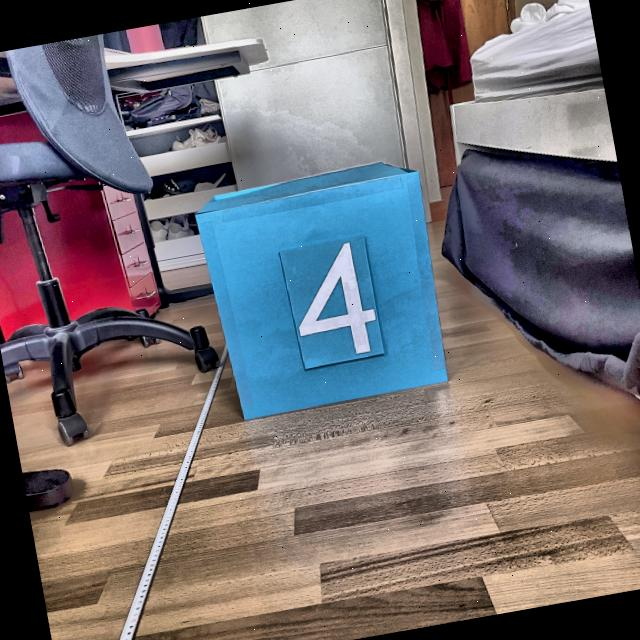blue box: (188, 153, 456, 426)
four: (282, 238, 384, 366)
